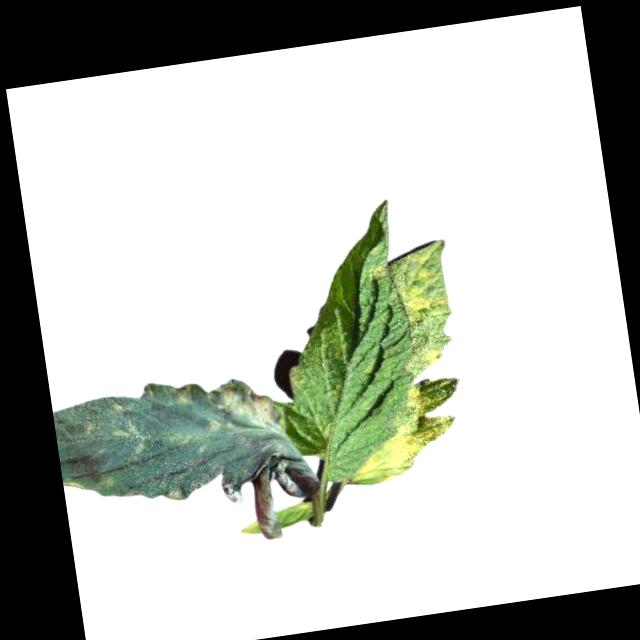Leaf_Mold: (338, 374, 470, 486), (388, 238, 462, 381), (207, 370, 285, 441), (167, 380, 196, 409)
